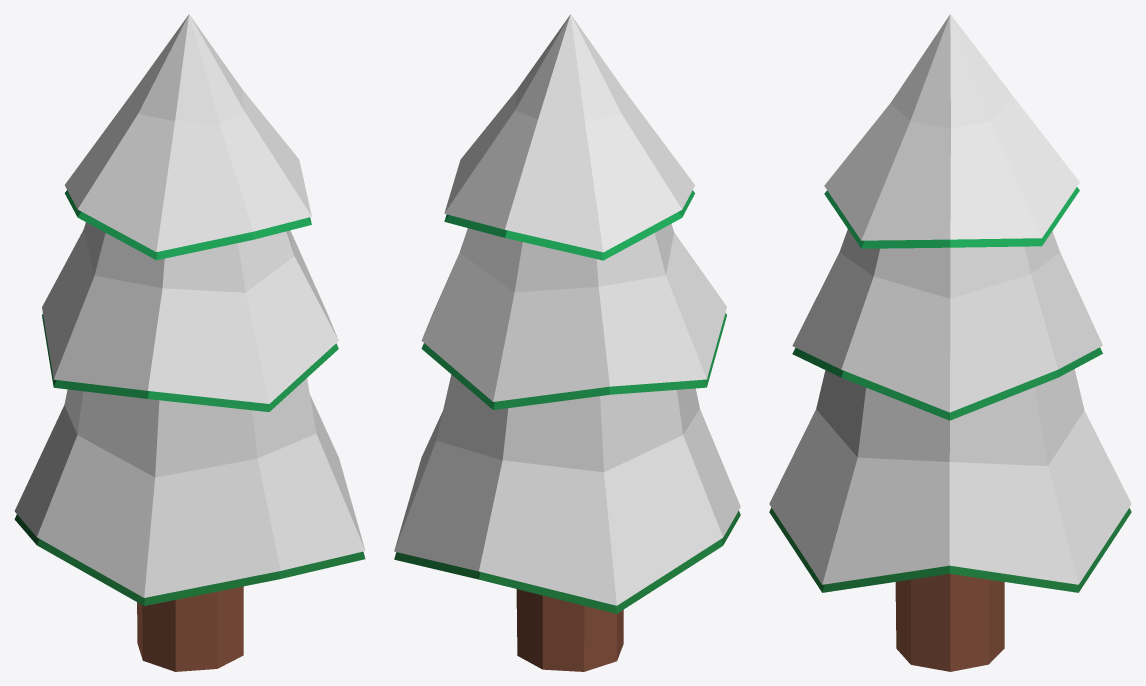
The model's file is Tree_01_winter_gradient_green.fbx.
The picture shows the model from 3 angles, left to right: view 1: azimuth 30°, elevation 25°; view 2: azimuth 150°, elevation 25°; view 3: azimuth 270°, elevation 25°; orthographic projection.
Visible parts, largest first — view 1: Tree_01_winter_gradient_green; view 2: Tree_01_winter_gradient_green; view 3: Tree_01_winter_gradient_green.
Part boxes in pixels (left/top/right/bottom): Tree_01_winter_gradient_green: left=14, top=14, right=365, bottom=671; Tree_01_winter_gradient_green: left=394, top=14, right=740, bottom=671; Tree_01_winter_gradient_green: left=769, top=14, right=1131, bottom=671.
Bounding box in the file's own units: 83.22 × 167 × 86.78.
